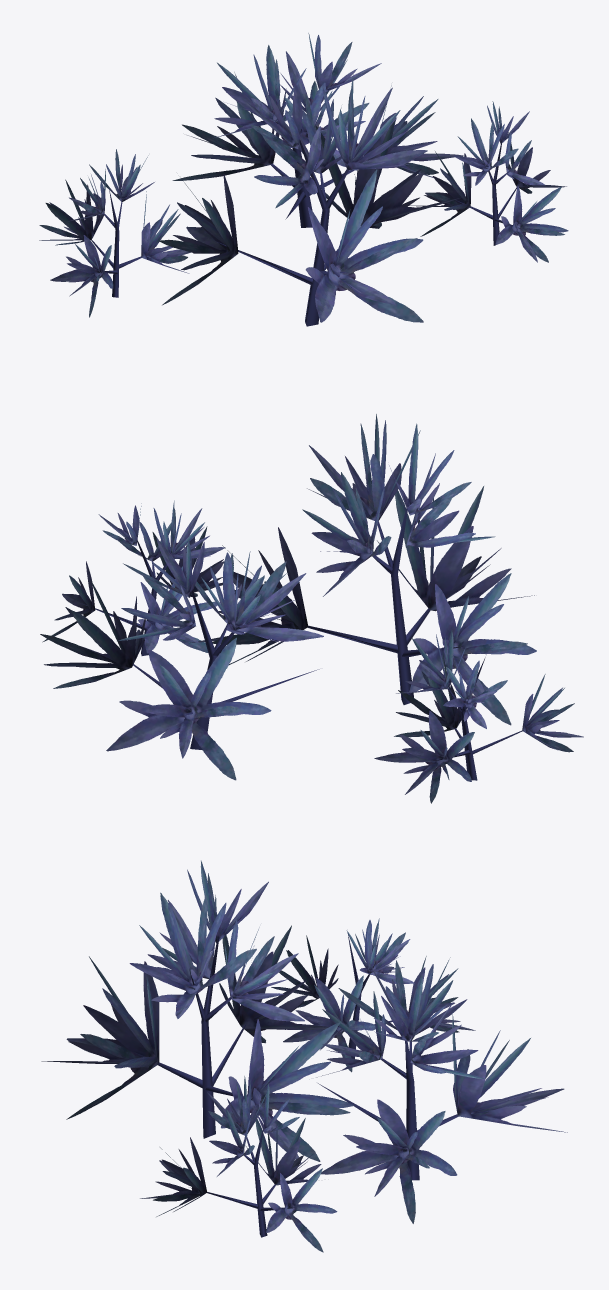
Rendered from shrb_blueleaf_huge_l1.fbx.
3 renders of one model, top to bottom at view 1: azimuth 30°, elevation 25°; view 2: azimuth 150°, elevation 25°; view 3: azimuth 270°, elevation 25°, orthographic. The views are drawn at different scales.
Parts seen in each view (by area): view 1: mesh_node; view 2: mesh_node; view 3: mesh_node.
Boxes of the visible parts, x1,y1,x2,y2 form: mesh_node: (39,33,568,326); mesh_node: (40,414,583,803); mesh_node: (41,860,567,1252).
Bounding box in the file's own units: 5.62 × 2.8 × 5.2.
Materials: 2 (2 with a texture image).
